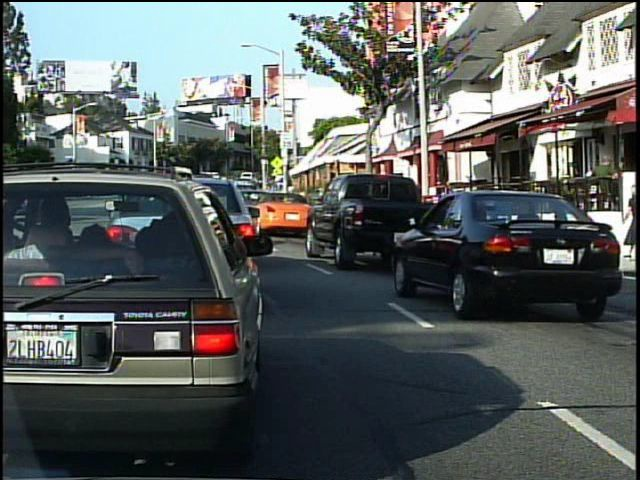person: (588, 149, 622, 233)
